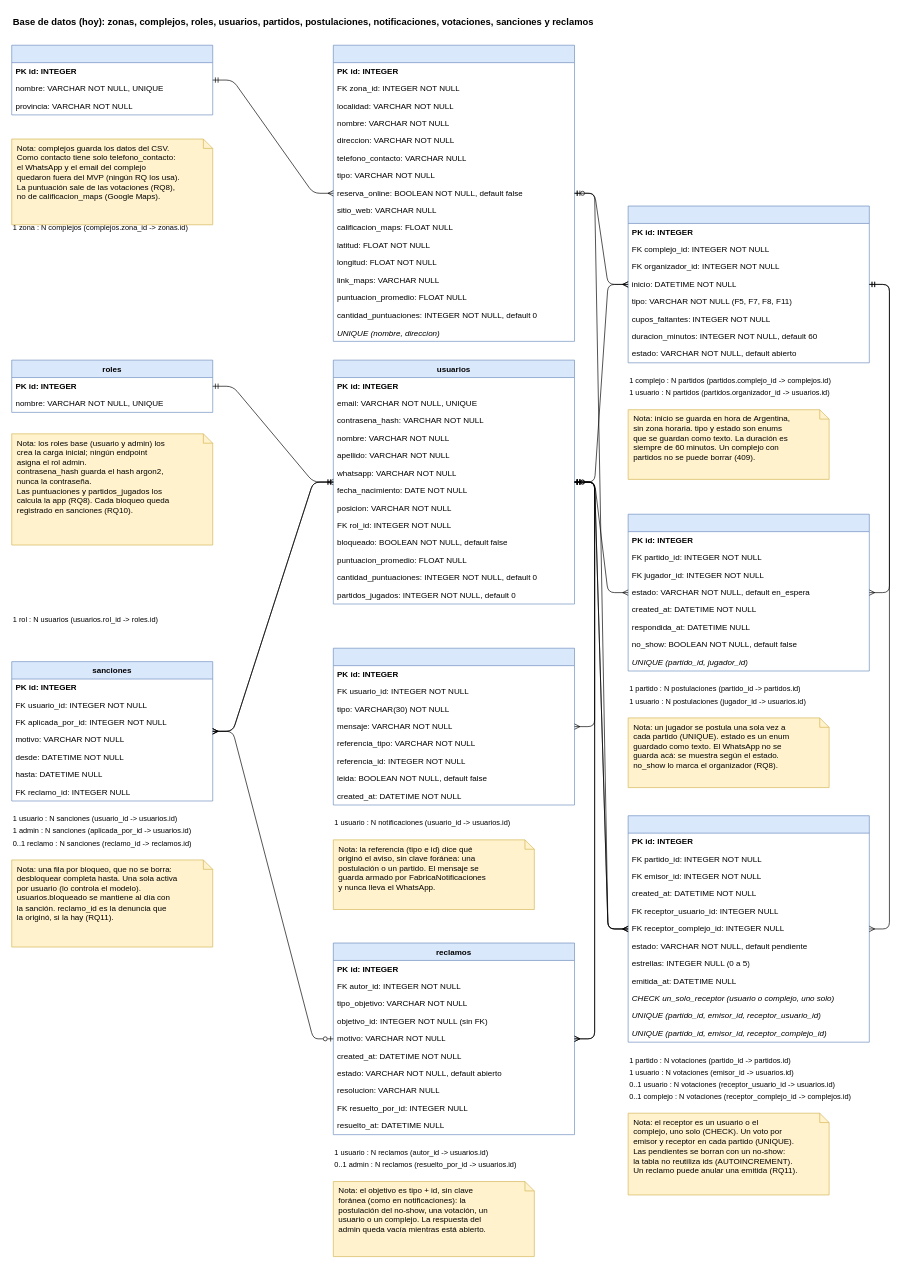
Image size: 921x1268. Some labels were removed from this diagram. Each missing label, with the box of its shape:
complejos: (333, 45, 575, 341)
notificaciones: (333, 648, 575, 805)
partidos: (627, 205, 869, 363)
postulaciones: (627, 514, 869, 671)
votaciones: (627, 815, 869, 1042)
zonas: (11, 45, 213, 115)
